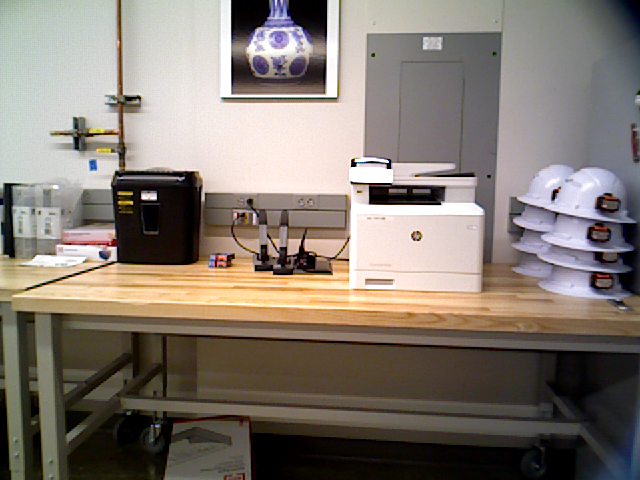painting2: (230, 1, 329, 96)
